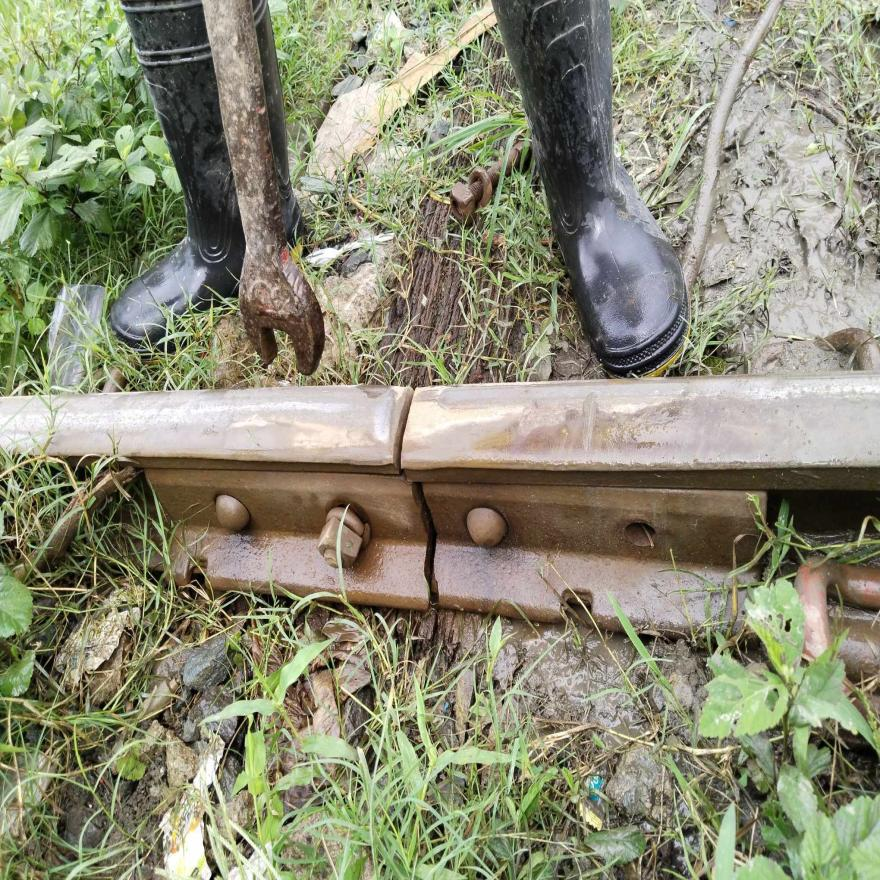railway-gap: (350, 356, 454, 483), (391, 479, 476, 614)
